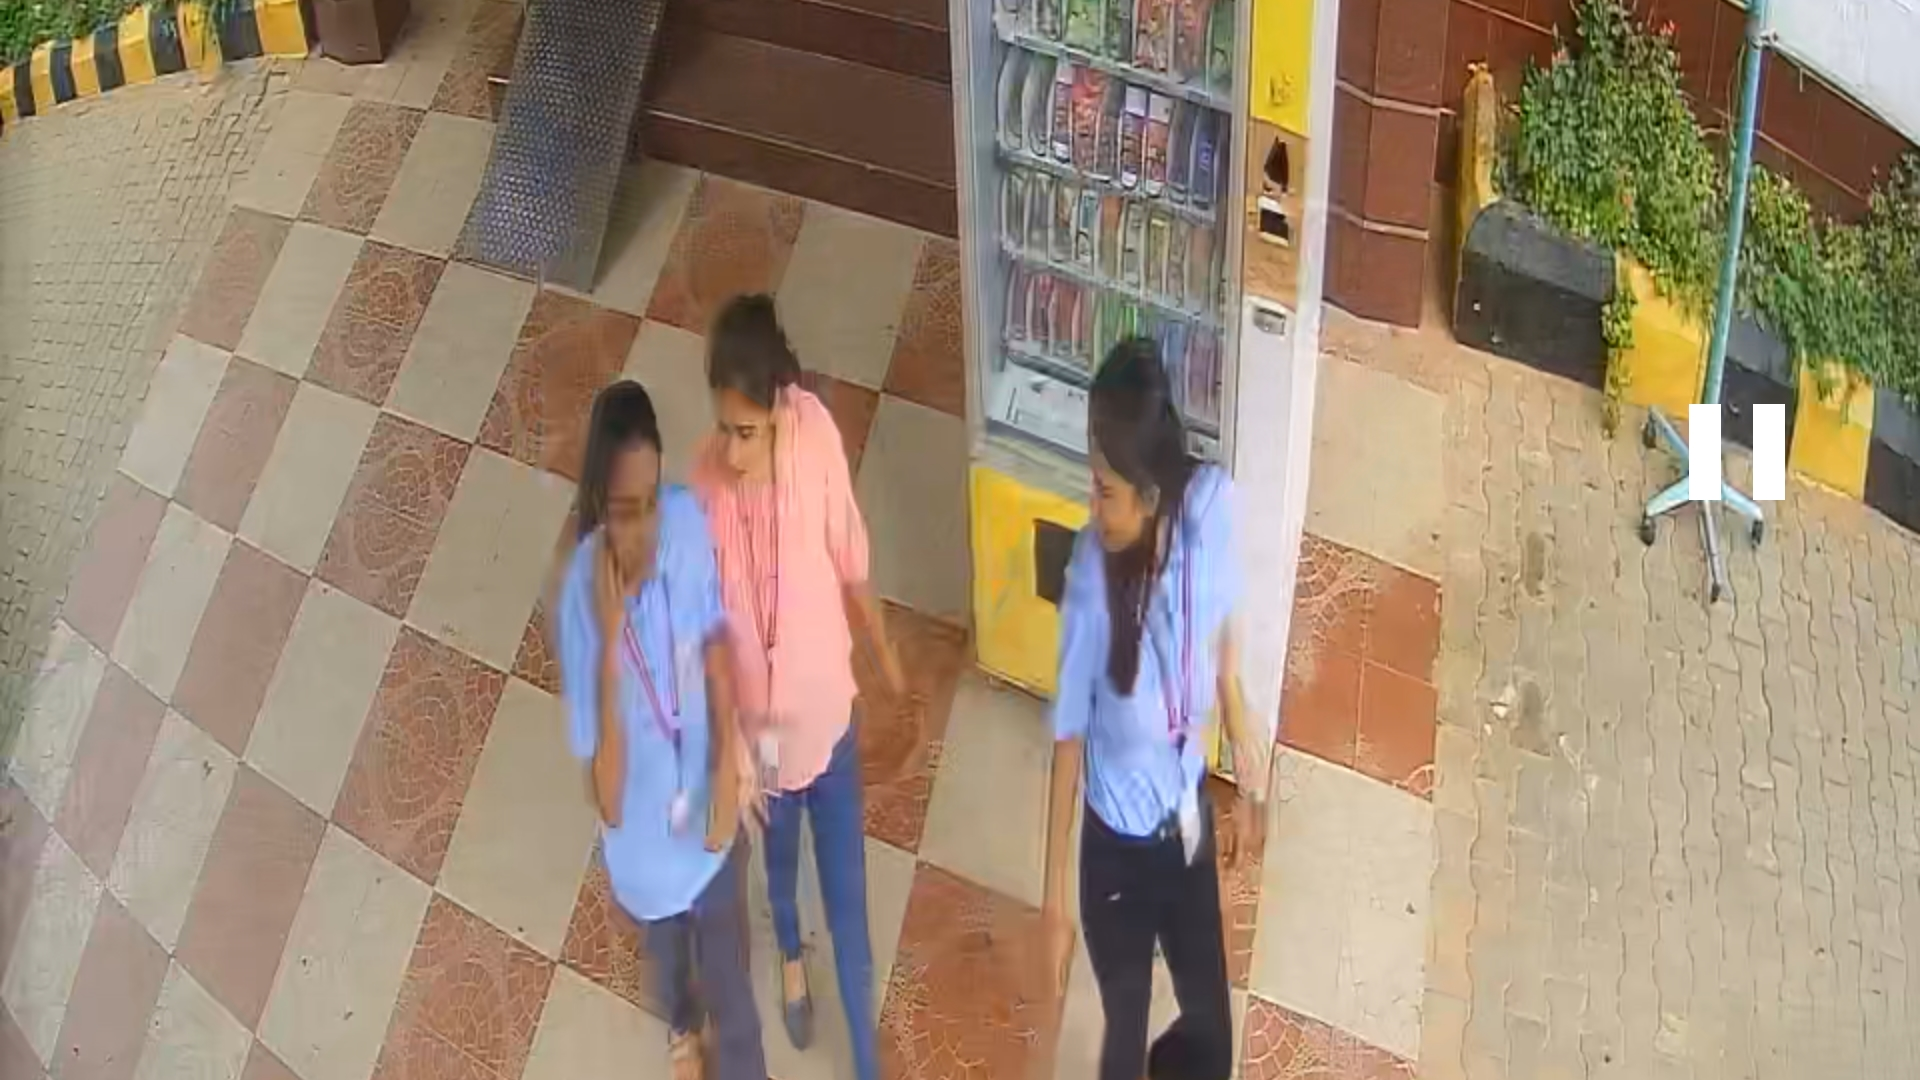not intruder: (702, 301, 932, 1056), (549, 381, 760, 1058), (1059, 319, 1240, 1080)
